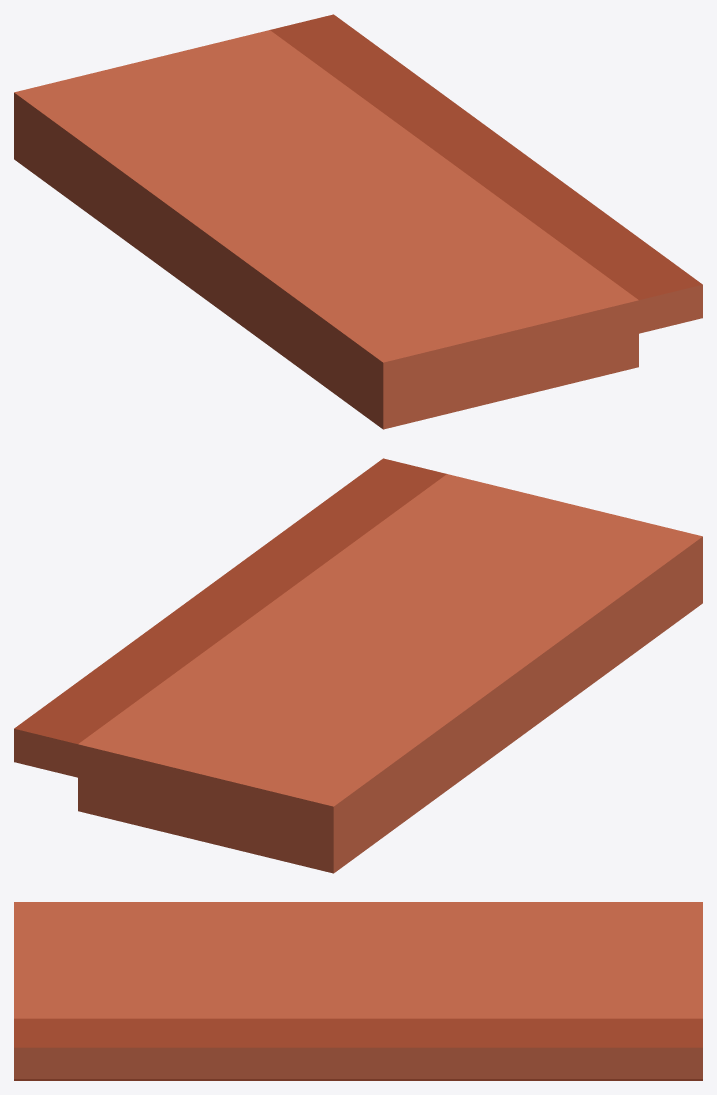
File: desert-floor-edge.glb
The picture shows the model from 3 angles, top to bottom: view 1: azimuth 30°, elevation 25°; view 2: azimuth 150°, elevation 25°; view 3: azimuth 270°, elevation 25°; orthographic projection. The views are drawn at different scales.
Parts seen in each view (by area): view 1: porch_floor; view 2: porch_floor; view 3: porch_floor.
Part boxes in pixels (bbox=[...]): porch_floor: bbox=[14, 14, 702, 429]; porch_floor: bbox=[14, 458, 702, 873]; porch_floor: bbox=[14, 902, 702, 1080].
Size of the model in its own units: 0.5 by 0.1 by 1.
